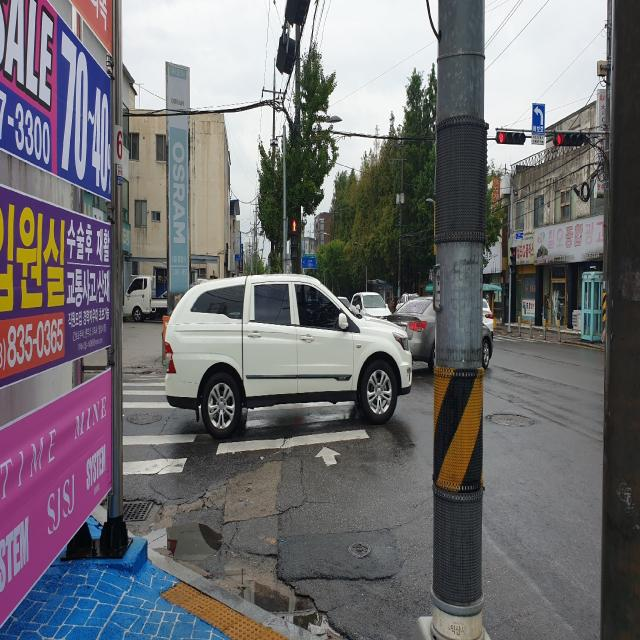빨간불: (291, 216, 299, 260)
횡단보도: (120, 379, 372, 480)
